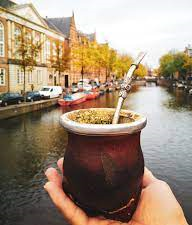calabaza: (55, 105, 150, 223)
mate: (57, 107, 152, 225)
